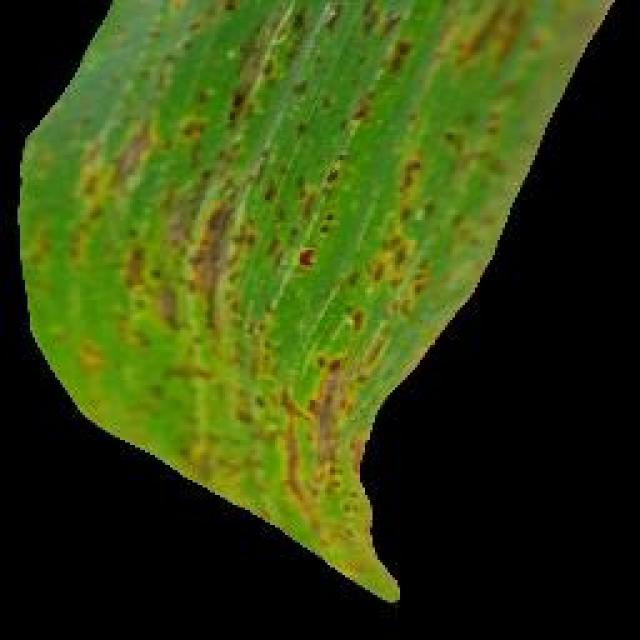Corn Common Rust: (148, 48, 387, 460)
